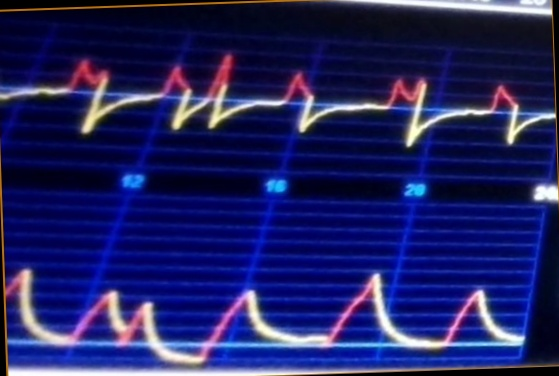Double_Triggering Flow: (3, 48, 552, 152)
Double_Triggering Volume: (8, 250, 522, 366)
